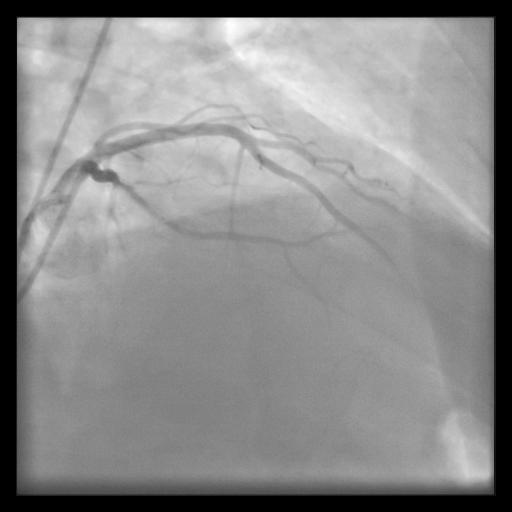Stenosis: (108, 170, 141, 198)
